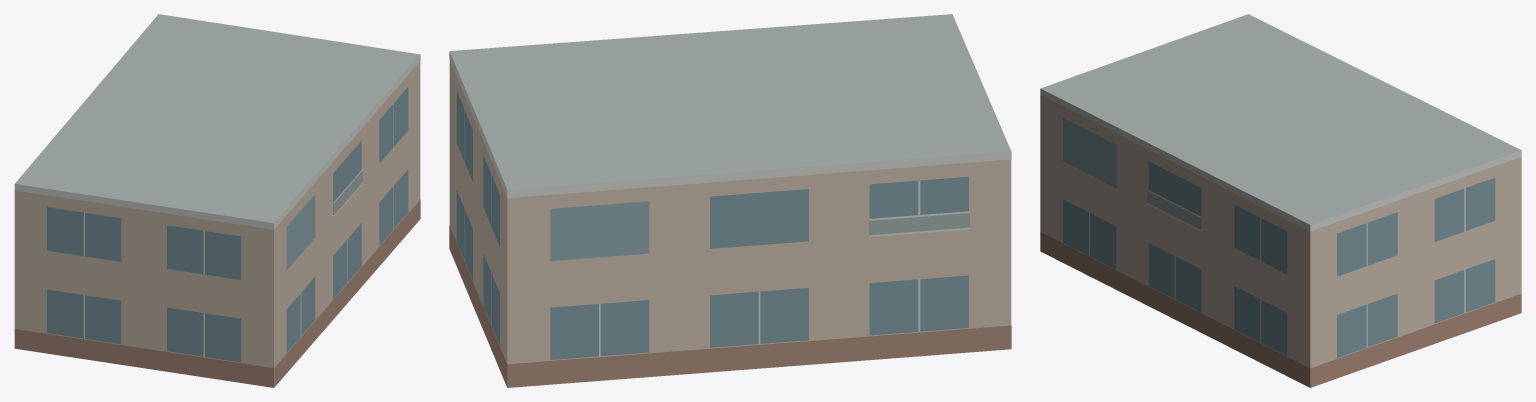
Rendered from survey-upis-32695165.glb.
The picture shows the model from 3 angles, left to right: view 1: azimuth 30°, elevation 25°; view 2: azimuth 150°, elevation 25°; view 3: azimuth 270°, elevation 25°; orthographic projection. The views are drawn at different scales.
Parts seen in each view (by area): view 1: survey-upis-32695165.tmp; view 2: survey-upis-32695165.tmp; view 3: survey-upis-32695165.tmp.
Part boxes in pixels (x1,y1,x2,y2): survey-upis-32695165.tmp: (14,14,420,387); survey-upis-32695165.tmp: (449,14,1011,387); survey-upis-32695165.tmp: (1040,14,1521,387).
Bounding box in the file's own units: 16.95 × 6.1 × 16.33.
